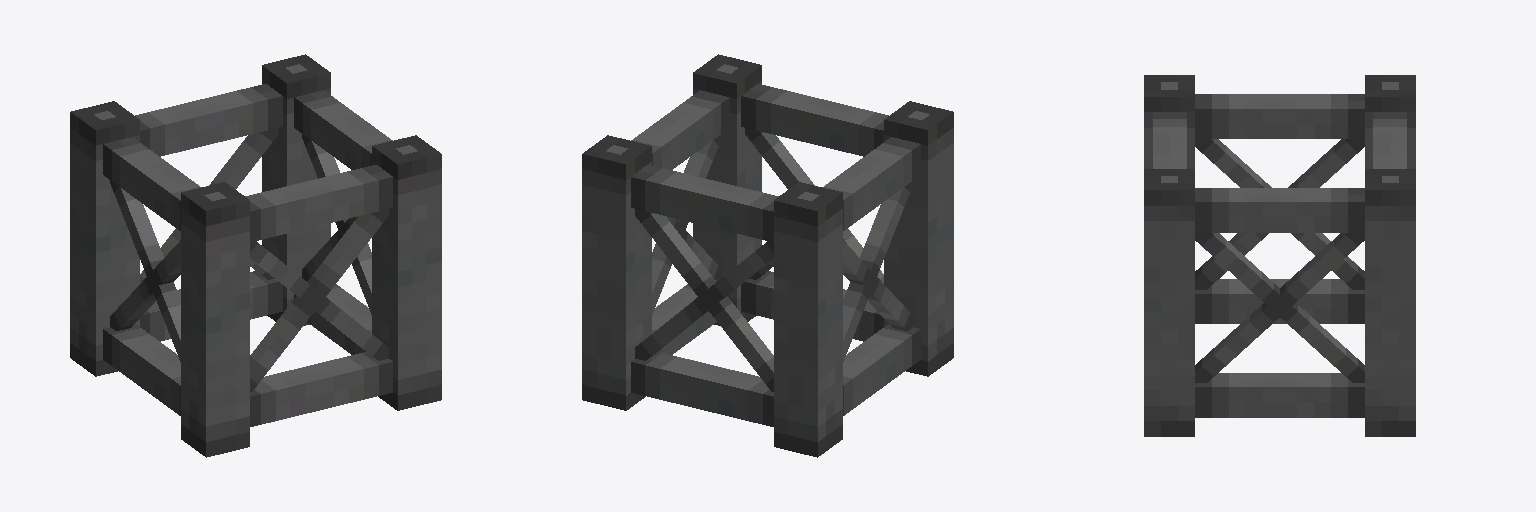
3 views of the same model, side by side, from view 1: azimuth 30°, elevation 25°; view 2: azimuth 150°, elevation 25°; view 3: azimuth 270°, elevation 25° (orthographic).
Parts seen in each view (by area): view 1: Component_1_001, Component_1_002, Component_1_004, Component_1_003, Component_2_002, Component_2_004, Component_2_005, Component_3_005, Component_2_008, Component_2_007, Component_2_006, Component_3_008 (+7 smaller); view 2: Component_1_004, Component_1_003, Component_1_001, Component_1_002, Component_2_004, Component_2_002, Component_2_001, Component_3_007, Component_2_008, Component_2_007, Component_2_006, Component_3_004 (+7 smaller); view 3: Component_1_002, Component_1_003, Component_2_008, Component_2_007, Component_2_003, Component_2_006, Component_3_003, Component_3_002, Component_1_001, Component_1_004, Component_3_008, Component_3_004 (+2 smaller).
Boxes of the visible parts, box(x1,y1,x2,y2) form: Component_1_001: box(181, 182, 249, 457); Component_1_002: box(372, 135, 441, 410); Component_1_004: box(70, 101, 139, 376); Component_1_003: box(262, 54, 330, 325); Component_2_002: box(245, 165, 392, 242); Component_2_004: box(135, 84, 282, 156); Component_2_005: box(250, 352, 392, 426); Component_3_005: box(250, 209, 388, 391); Component_2_008: box(103, 137, 201, 230); Component_2_007: box(294, 90, 392, 169); Component_2_006: box(103, 324, 180, 415); Component_3_008: box(110, 180, 180, 361); Component_1_004: box(774, 182, 842, 457); Component_1_003: box(582, 135, 651, 410); Component_1_001: box(884, 101, 953, 376); Component_1_002: box(693, 54, 761, 325); Component_2_004: box(631, 165, 778, 242); Component_2_002: box(741, 84, 888, 156); Component_2_001: box(631, 352, 773, 426); Component_3_007: box(635, 209, 773, 391); Component_2_008: box(822, 137, 920, 230); Component_2_007: box(631, 90, 729, 169); Component_2_006: box(843, 324, 920, 415); Component_3_004: box(843, 180, 913, 361); Component_1_002: box(1144, 169, 1194, 436); Component_1_003: box(1365, 169, 1415, 436); Component_2_008: box(1195, 94, 1364, 138); Component_2_007: box(1195, 188, 1364, 232); Component_2_003: box(1195, 373, 1364, 417); Component_2_006: box(1195, 279, 1364, 323); Component_3_003: box(1195, 233, 1364, 382); Component_3_002: box(1195, 233, 1364, 382); Component_1_001: box(1144, 75, 1194, 168); Component_1_004: box(1365, 75, 1415, 168); Component_3_008: box(1195, 139, 1364, 289); Component_3_004: box(1195, 139, 1364, 289).
Size of the model in its own units: 1 by 1 by 1.
1 materials, 1 textured.